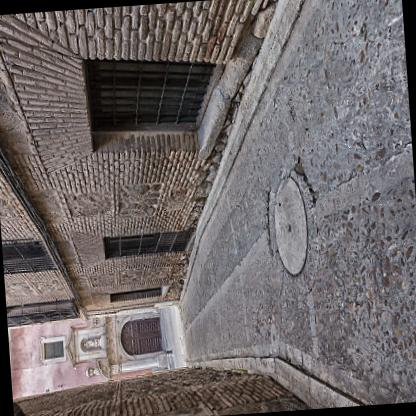manholes: (256, 148, 330, 294)
